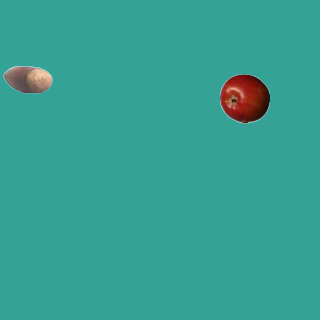Apple Braeburn: (219, 73, 269, 123)
Hazelnut: (2, 54, 52, 104)
